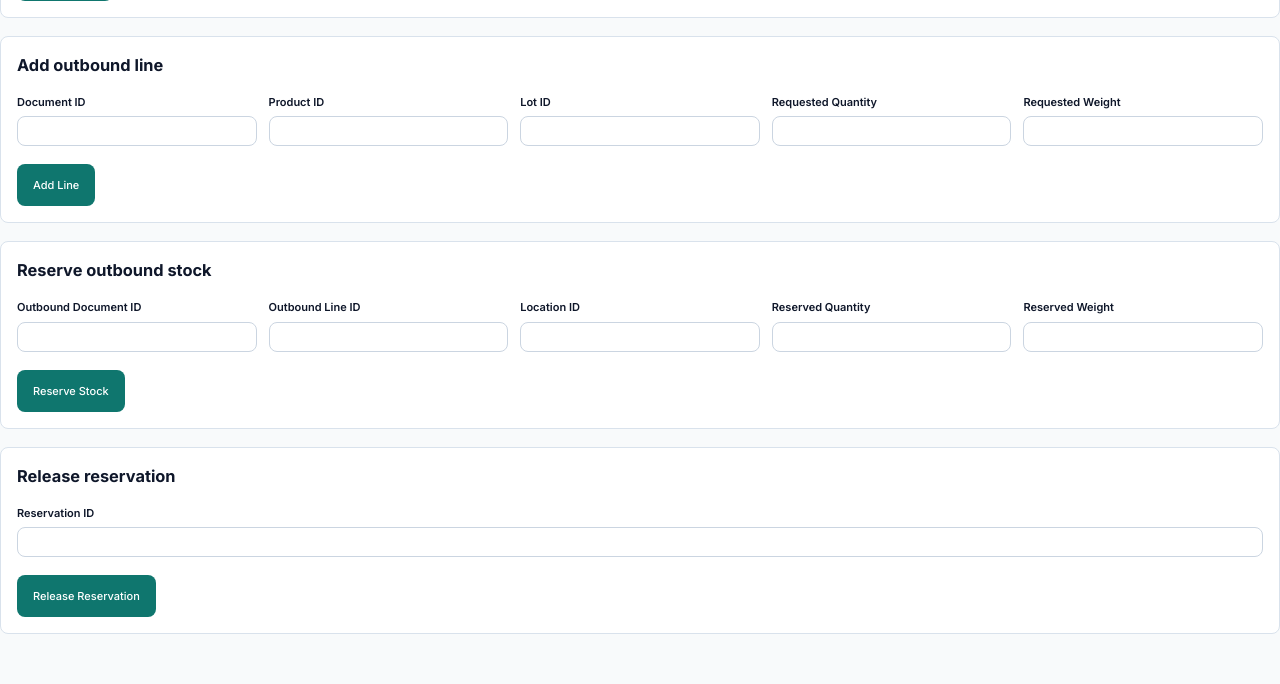
Test: Sprint 14H outbound picking UI draft screens › release action passes reservation_id and displays the successful result
(page scrolled)
Type "reservation-1" into the field named "Release reservation id".
click(640, 542); type("reservation-1")  # box [17,527,1263,557]
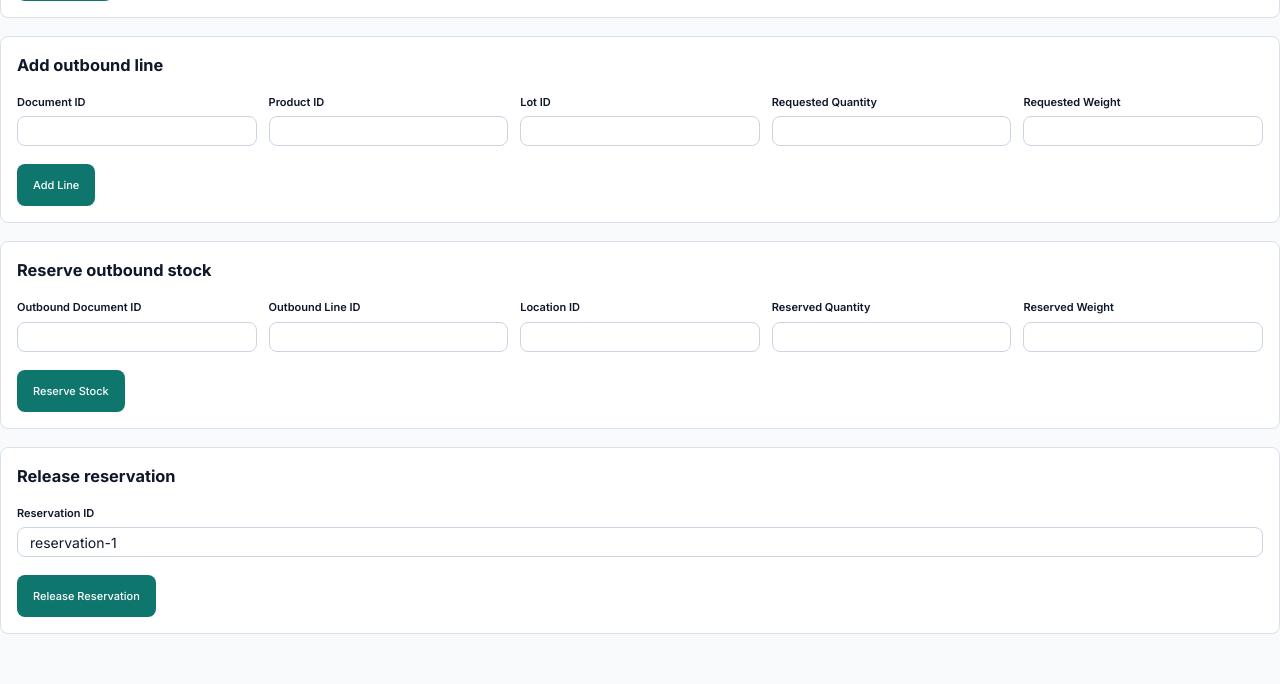
Click the button "Release Reservation".
click(86, 596)  # box [17,575,156,617]
(page scrolled)
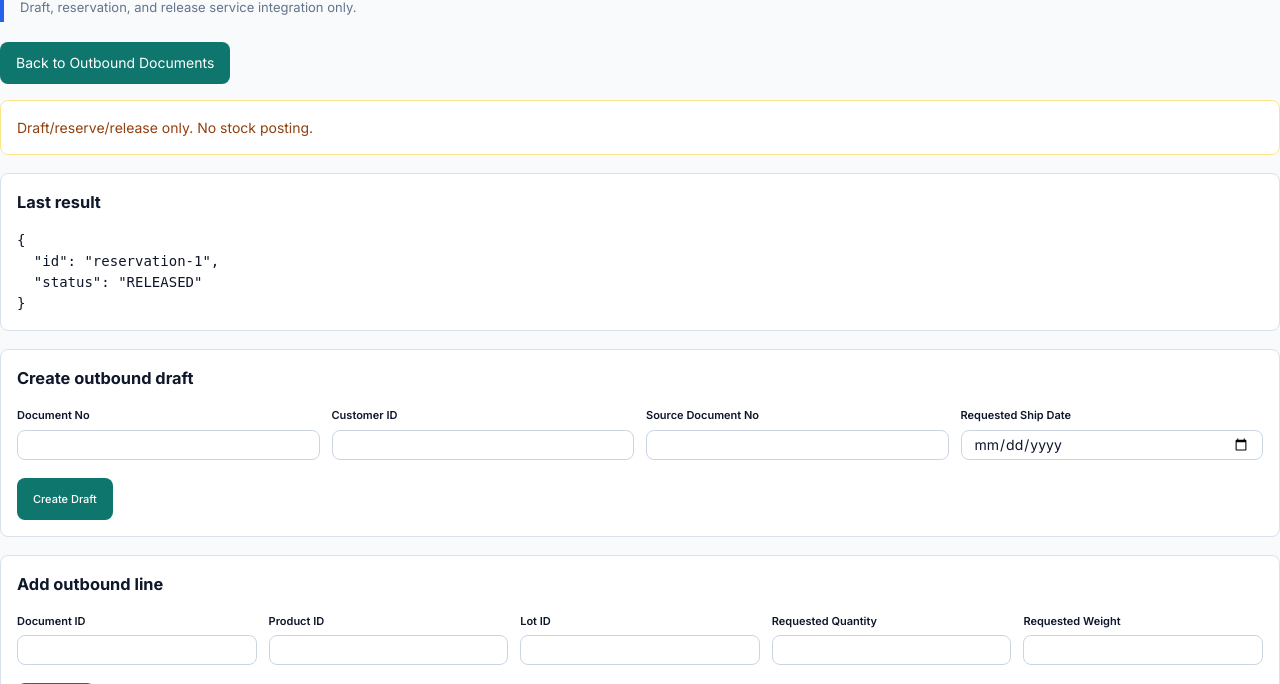
Result: the text "{ \"id\": \"reservation-1\", \"status\": \"RELEASED\" }" is shown at [17,232,219,311]
